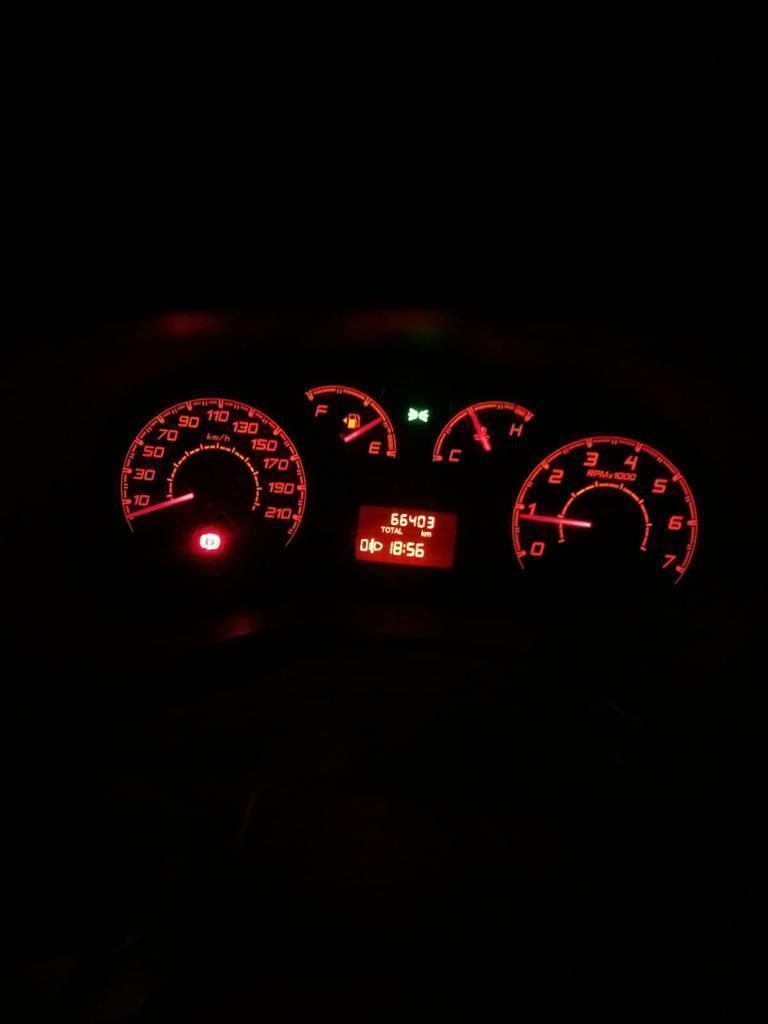0: (359, 537, 368, 552), (416, 515, 426, 528)
1: (387, 539, 392, 555)
3: (426, 515, 435, 529)
4: (408, 514, 416, 527)
5: (405, 541, 414, 557)
6: (415, 542, 425, 559), (389, 511, 399, 525), (399, 512, 408, 526)
8: (392, 540, 402, 556)
X: (384, 526, 390, 533), (424, 531, 431, 537), (398, 527, 403, 534), (420, 529, 425, 536), (403, 543, 406, 554), (380, 525, 384, 533), (394, 527, 398, 534), (390, 526, 394, 533)
odometer: (349, 502, 459, 571)
